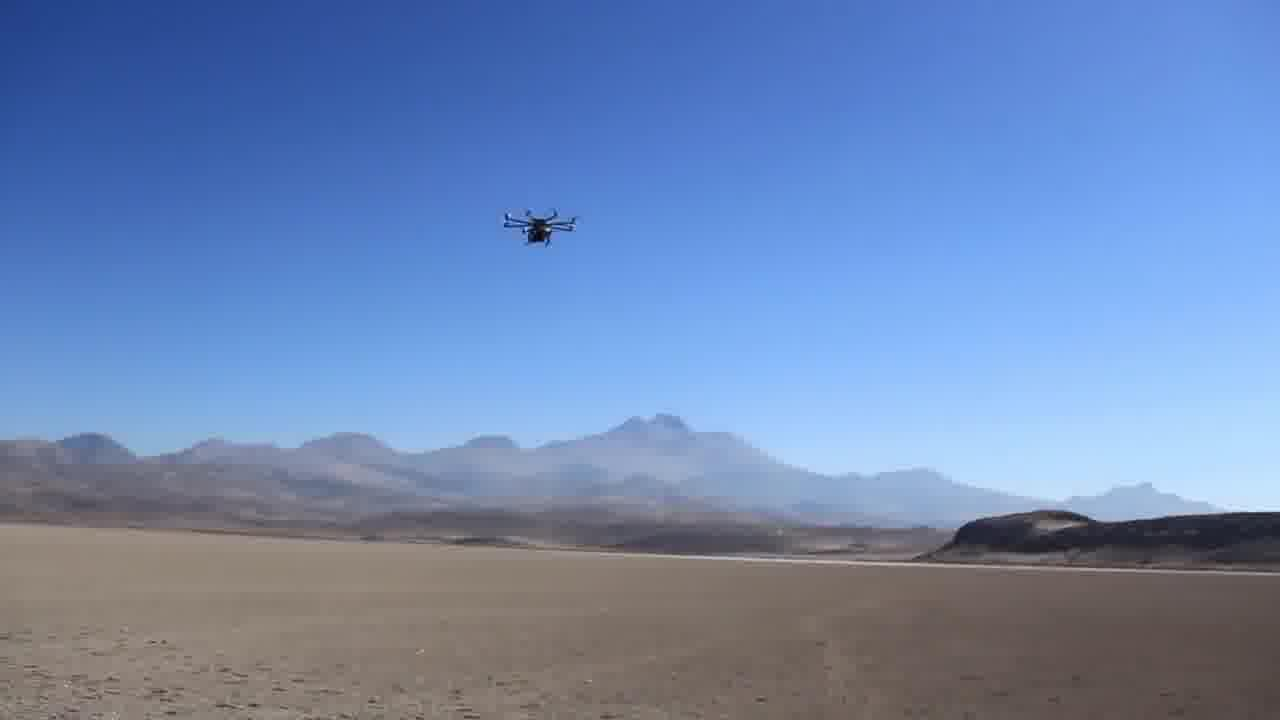drone: (496, 202, 585, 259)
